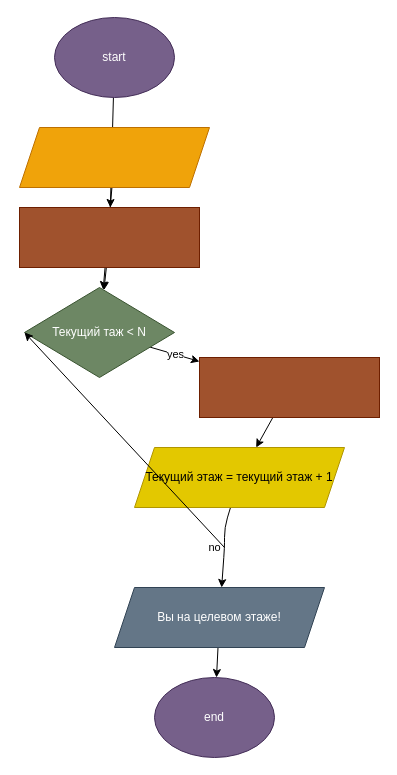
Image size: 397x775. Some labels were removed from this diagram. The box of each missing label's shape, as (x1, y1, x2, y2) in pixels:
ввод целевой этаж N: (18, 126, 210, 188)
поднять на этаж выше: (198, 356, 380, 418)
Текущий этаж = 1: (18, 206, 200, 268)
